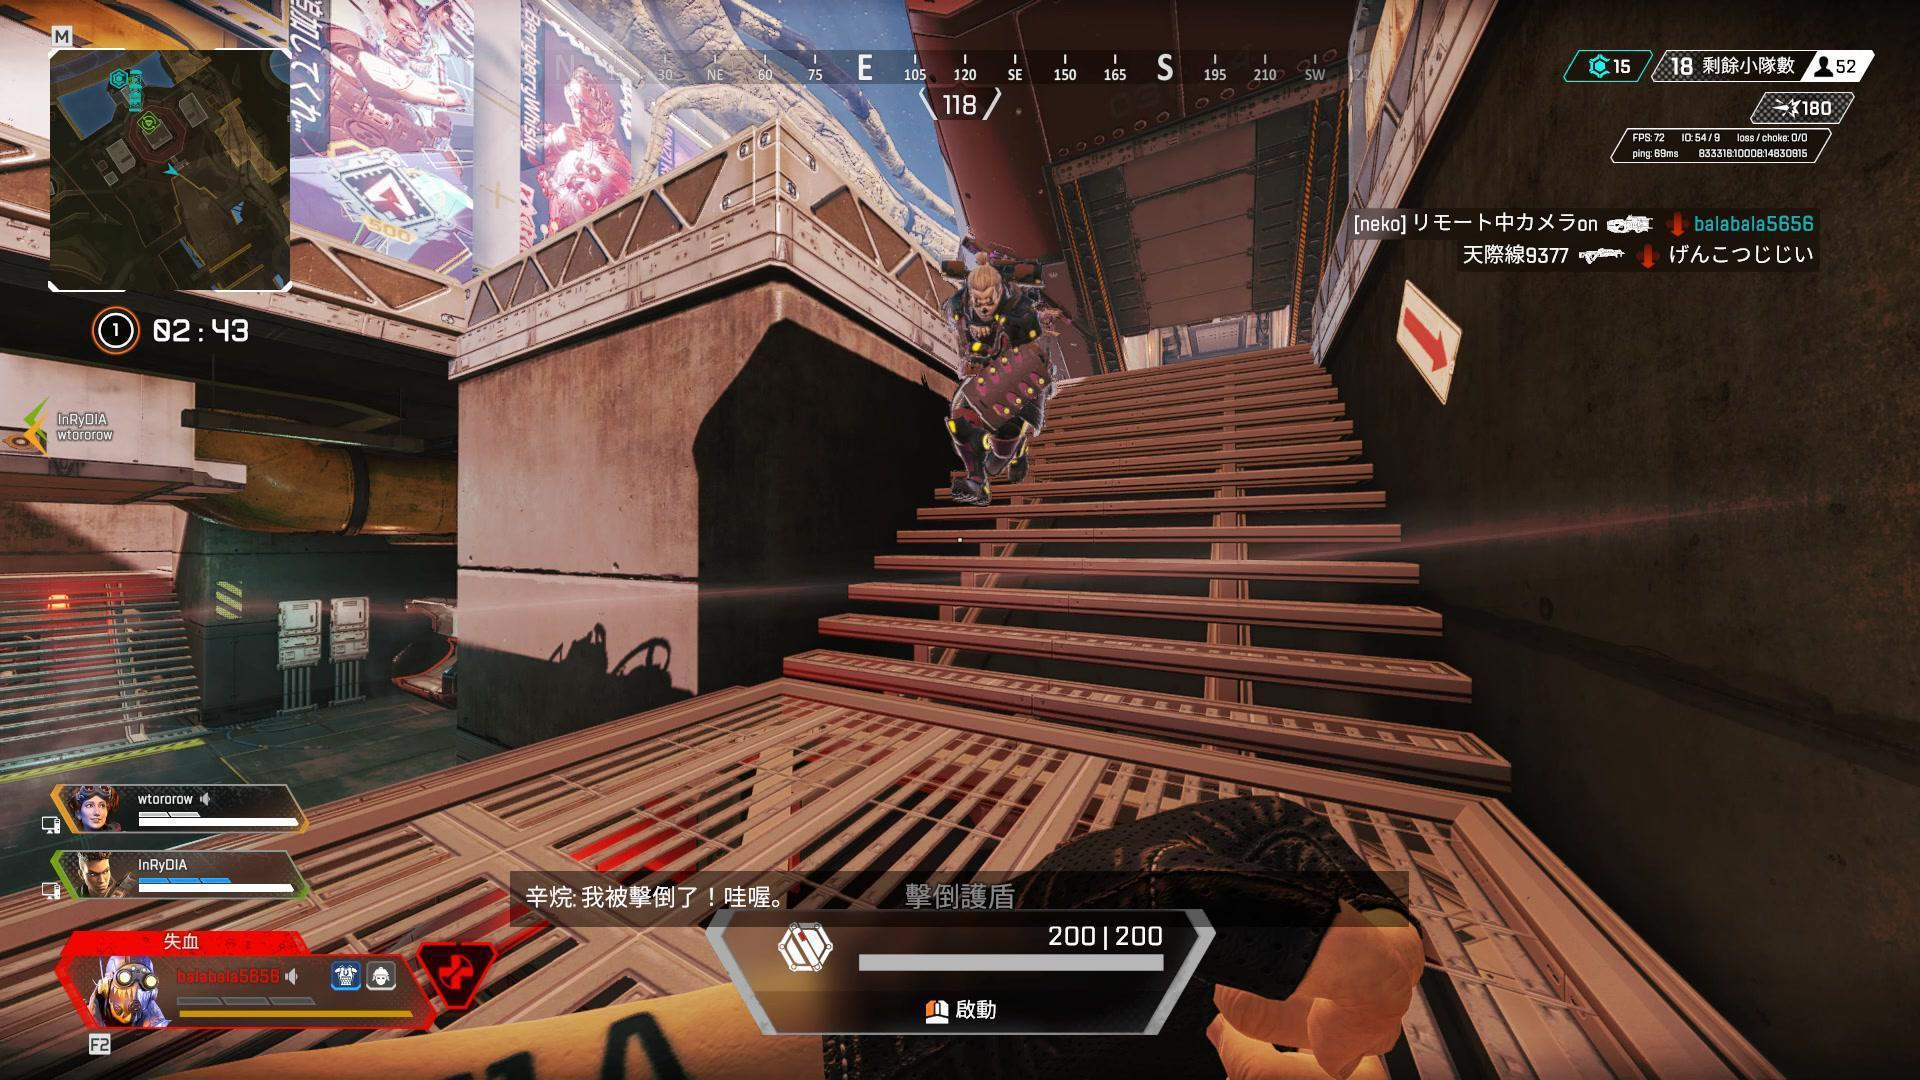avatar: (937, 250, 1058, 509)
